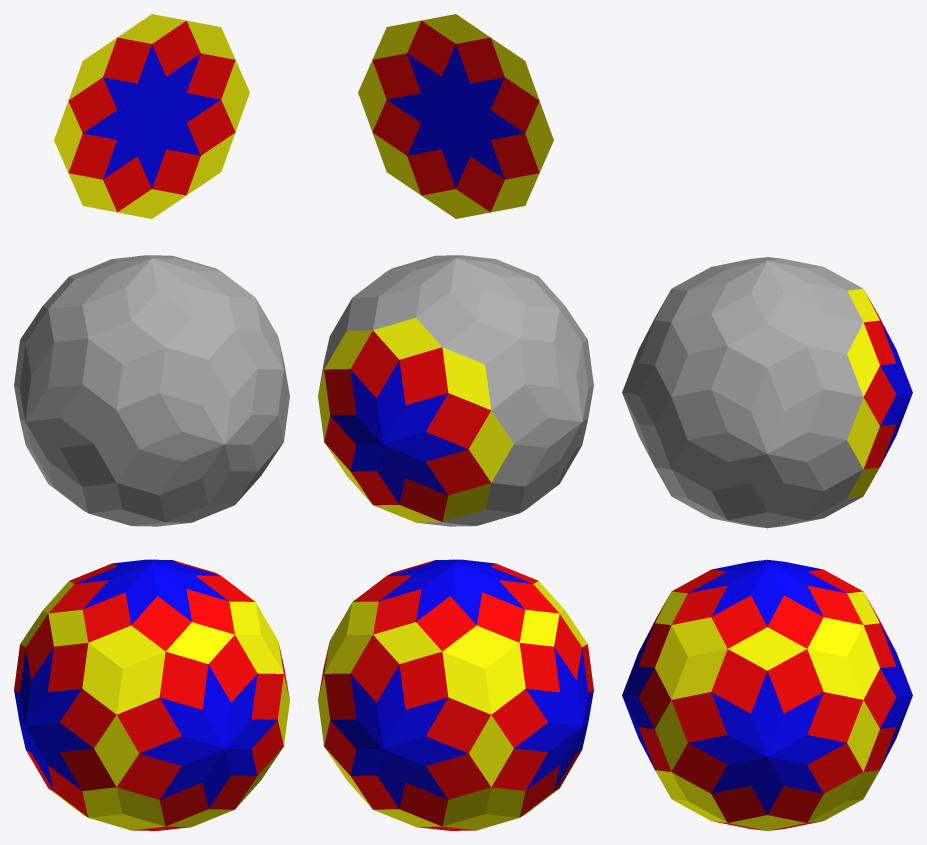
3 renders of one model, left to right at view 1: azimuth 30°, elevation 25°; view 2: azimuth 150°, elevation 25°; view 3: azimuth 270°, elevation 25°, orthographic.
Visible parts, largest first — view 1: group_2, group_0 (×29), group_1 (×17); view 2: group_2 (×16), group_0 (×29), group_1 (×17); view 3: group_0 (×32), group_2 (×8).
Boxes of the visible parts, left/top/right/bottom form: group_2: left=14, top=255, right=289, bottom=526; group_0 (×29): left=14, top=559, right=283, bottom=830; group_1 (×17): left=54, top=14, right=249, bottom=218; group_2 (×16): left=318, top=255, right=593, bottom=526; group_0 (×29): left=324, top=559, right=593, bottom=830; group_1 (×17): left=358, top=14, right=553, bottom=218; group_0 (×32): left=622, top=559, right=912, bottom=830; group_2 (×8): left=622, top=257, right=912, bottom=528.
Size of the model in its own units: 133 by 133 by 408.
